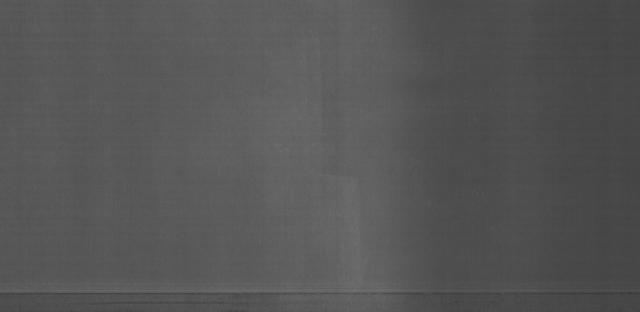welding_line: (2, 280, 640, 302)
